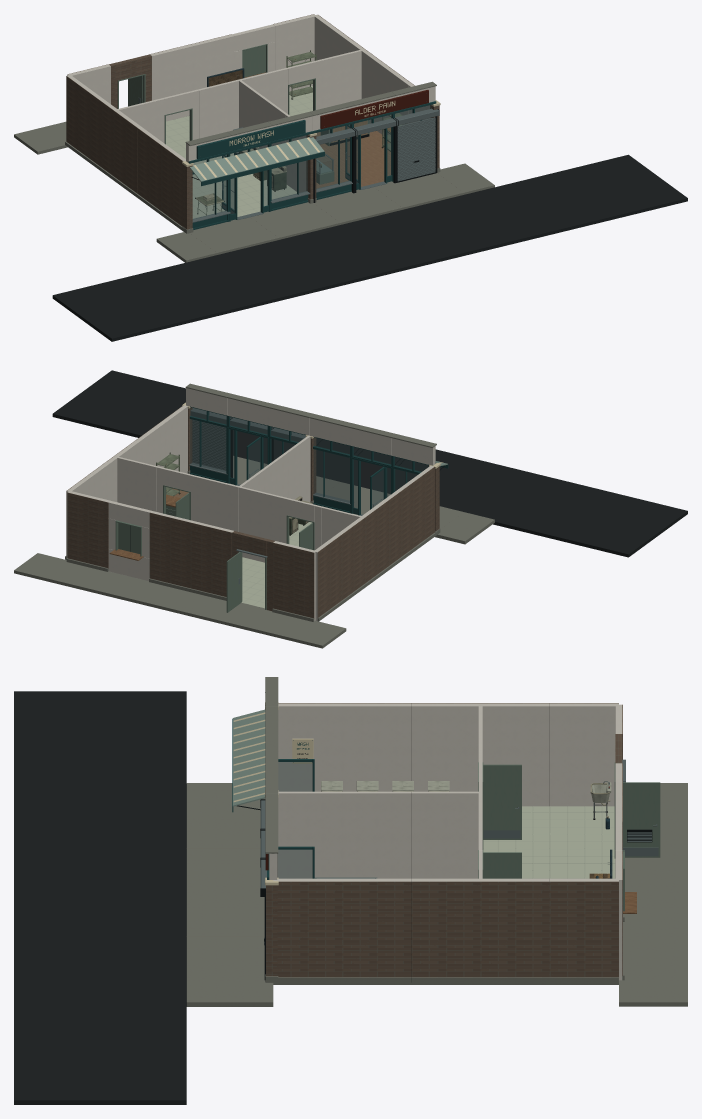
The model's file is storefronts_example_cutaway.glb.
3 views of the same model, one above another, from view 1: azimuth 30°, elevation 25°; view 2: azimuth 150°, elevation 25°; view 3: azimuth 270°, elevation 25° (orthographic). The views are drawn at different scales.
Parts seen in each view (by area): view 1: SITE_street, SITE_sidewalk, INSTANCE__roller_shutter_2m__126, INSTANCE__masonry_wall_2m__050, INSTANCE__stockroom_partition_2m__099, INSTANCE__stockroom_partition_2m__049, INSTANCE__glazed_display_bay_2m__061, INSTANCE__service_hatch_2m__084, INSTANCE__masonry_wall_2m__112, INSTANCE__masonry_wall_2m__110, INSTANCE__masonry_wall_2m__100, INSTANCE__masonry_wall_2m__114 (+38 smaller); view 2: SITE_street, SITE_rear_apron, INSTANCE__masonry_wall_2m__015, INSTANCE__masonry_wall_2m__100, INSTANCE__masonry_wall_2m__066, INSTANCE__service_hatch_2m__084, SITE_sidewalk, INSTANCE__masonry_wall_2m__050, INSTANCE__glazed_display_bay_2m__095, INSTANCE__glazed_display_bay_2m__045, INSTANCE__stockroom_partition_2m__049, INSTANCE__masonry_wall_2m__116 (+35 smaller); view 3: SITE_street, SITE_sidewalk, SITE_rear_apron, INSTANCE__masonry_wall_2m__111, INSTANCE__masonry_wall_2m__113, INSTANCE__masonry_wall_2m__115, INSTANCE__masonry_wall_2m__117, INSTANCE__masonry_wall_2m__109, INSTANCE__masonry_wall_2m__116, INSTANCE__stockroom_partition_2m__119, INSTANCE__stockroom_partition_2m__120, INSTANCE__masonry_wall_2m__110 (+20 smaller).
Boxes of the visible parts, x1,y1,x2,y2 form: SITE_street: (52,154,687,341); SITE_sidewalk: (156,163,494,262); INSTANCE__roller_shutter_2m__126: (397,117,436,182); INSTANCE__masonry_wall_2m__050: (150,44,193,121); INSTANCE__stockroom_partition_2m__099: (321,49,362,108); INSTANCE__stockroom_partition_2m__049: (198,79,239,138); INSTANCE__glazed_display_bay_2m__061: (316,137,352,199); INSTANCE__service_hatch_2m__084: (232,24,275,77); INSTANCE__masonry_wall_2m__112: (112,110,141,196); INSTANCE__masonry_wall_2m__110: (136,127,165,213); INSTANCE__masonry_wall_2m__100: (273,14,315,91); INSTANCE__masonry_wall_2m__114: (89,92,117,179); SITE_street: (52,370,687,557); SITE_rear_apron: (14,553,346,648); INSTANCE__masonry_wall_2m__015: (272,541,315,621); INSTANCE__masonry_wall_2m__100: (66,491,110,571); INSTANCE__masonry_wall_2m__066: (149,511,192,591); INSTANCE__service_hatch_2m__084: (108,501,151,580); SITE_sidewalk: (230,456,494,544); INSTANCE__masonry_wall_2m__050: (190,521,233,600); INSTANCE__glazed_display_bay_2m__095: (189,417,227,483); INSTANCE__glazed_display_bay_2m__045: (313,447,350,513); INSTANCE__stockroom_partition_2m__049: (239,486,280,562); INSTANCE__masonry_wall_2m__116: (315,534,342,621); SITE_street: (14,691,186,1104); SITE_sidewalk: (186,783,273,1006); SITE_rear_apron: (619,783,687,1006); INSTANCE__masonry_wall_2m__111: (342,878,411,982); INSTANCE__masonry_wall_2m__113: (411,878,480,982); INSTANCE__masonry_wall_2m__115: (480,878,549,982); INSTANCE__masonry_wall_2m__117: (549,878,618,982); INSTANCE__masonry_wall_2m__109: (273,878,342,982); INSTANCE__masonry_wall_2m__116: (549,703,618,806); INSTANCE__stockroom_partition_2m__119: (342,791,411,878); INSTANCE__stockroom_partition_2m__120: (411,791,480,878); INSTANCE__masonry_wall_2m__110: (342,703,411,791).
Bounding box in the file's own units: 28 × 4.34 × 19.5.
Materials: 122 (115 with a texture image).
